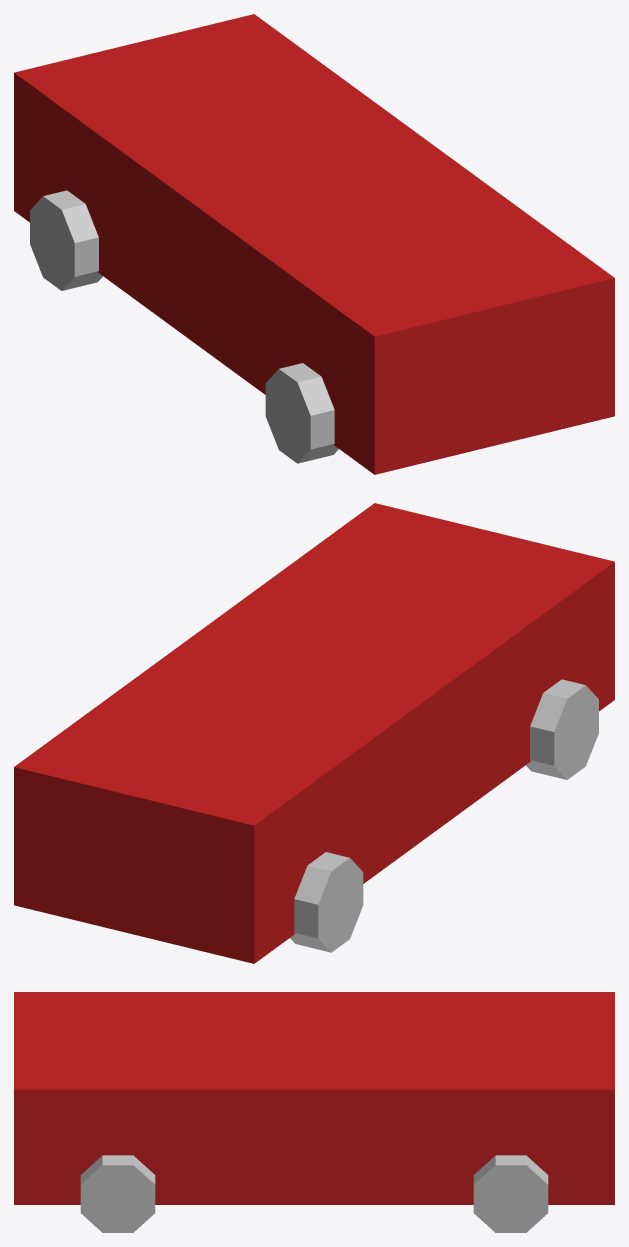
The model's file is car.obj.
3 views of the same model, one above another, from view 1: azimuth 30°, elevation 25°; view 2: azimuth 150°, elevation 25°; view 3: azimuth 270°, elevation 25° (orthographic). The views are drawn at different scales.
Visible parts, largest first — view 1: body, wheel_rl, wheel_fl; view 2: body, wheel_fl, wheel_rl; view 3: body, Wheel_FR, wheel_rr.
Boxes of the visible parts, x1,y1,x2,y2 form: body: [14, 14, 614, 474]; wheel_rl: [265, 363, 338, 463]; wheel_fl: [30, 190, 102, 290]; body: [14, 503, 614, 963]; wheel_fl: [290, 852, 363, 952]; wheel_rl: [526, 679, 598, 779]; body: [14, 992, 614, 1204]; Wheel_FR: [473, 1155, 548, 1232]; wheel_rr: [80, 1155, 155, 1232].
Bounding box in the file's own units: 240 × 127 × 520.
